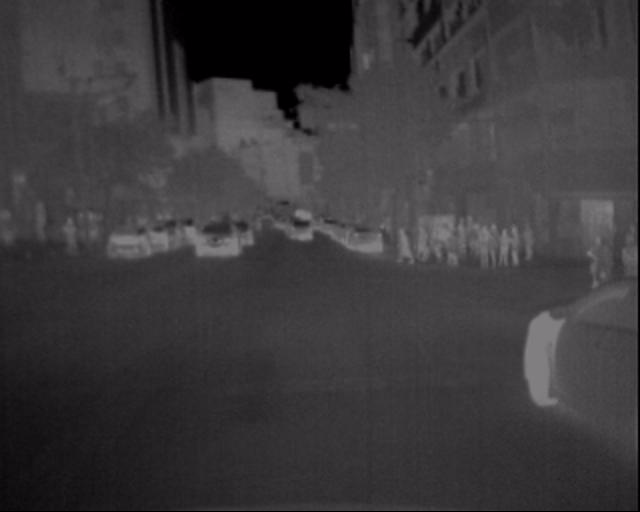person: (401, 215, 539, 276), (359, 207, 442, 273), (585, 220, 619, 300)
